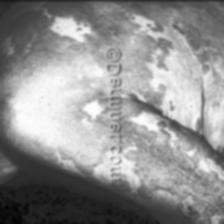Toxin: (9, 5, 104, 167), (130, 41, 168, 192), (173, 148, 215, 224), (98, 10, 140, 42)
